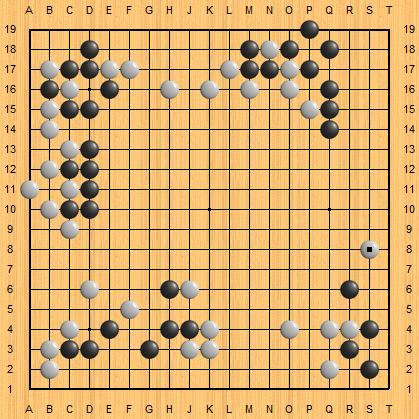black: (39, 79, 59, 99), (58, 199, 78, 219), (59, 59, 79, 79), (59, 99, 79, 119), (58, 159, 78, 179), (79, 199, 99, 219), (78, 339, 98, 359), (79, 39, 99, 59), (78, 59, 98, 79), (78, 99, 98, 119), (78, 139, 98, 159), (78, 179, 98, 199), (99, 319, 119, 339), (99, 79, 119, 99), (138, 339, 158, 359), (159, 279, 179, 299), (159, 319, 179, 339), (178, 319, 198, 339), (239, 39, 259, 59), (238, 59, 258, 79), (259, 59, 279, 79), (278, 39, 298, 59), (299, 19, 319, 39), (299, 59, 319, 79), (319, 39, 339, 59), (319, 79, 339, 99), (319, 99, 339, 119), (319, 119, 339, 139), (338, 279, 358, 299), (338, 339, 358, 359), (359, 318, 379, 338), (359, 359, 379, 379)
white: (22, 176, 42, 196), (41, 196, 61, 216), (41, 335, 61, 355), (41, 355, 61, 375), (41, 58, 61, 78), (41, 96, 61, 116), (42, 114, 62, 134), (41, 157, 61, 177), (61, 217, 81, 237), (55, 323, 75, 343), (60, 77, 80, 97), (44, 116, 64, 136), (61, 137, 81, 157), (61, 177, 81, 197), (81, 277, 101, 297), (64, 77, 84, 97), (121, 58, 141, 78), (161, 78, 181, 98), (181, 276, 201, 296), (180, 337, 200, 357), (201, 318, 221, 338), (202, 338, 222, 358), (201, 78, 221, 98), (222, 58, 242, 78), (240, 76, 260, 96), (259, 33, 279, 53), (281, 317, 301, 337), (281, 57, 301, 77), (281, 76, 301, 96), (301, 96, 321, 116), (319, 317, 339, 337), (320, 356, 340, 376), (342, 317, 362, 337), (361, 237, 381, 257)
